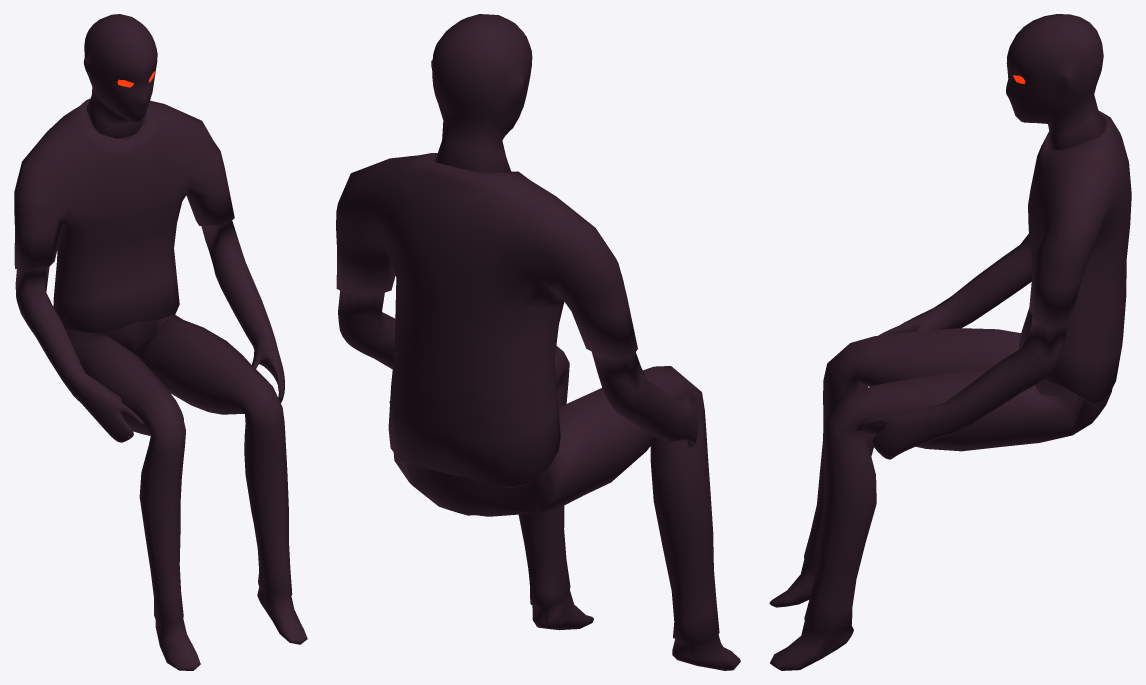
Rendered from NPCShadow.fbx.
The picture shows the model from 3 angles, left to right: view 1: azimuth 30°, elevation 25°; view 2: azimuth 150°, elevation 25°; view 3: azimuth 270°, elevation 25°; orthographic projection. The views are drawn at different scales.
Visible parts, largest first — view 1: NPCmass14.003, NPCmass14.004, NPCmass14.002; view 2: NPCmass14.003, NPCmass14.004, NPCmass14.002; view 3: NPCmass14.003, NPCmass14.004, NPCmass14.002.
Part boxes in pixels (bbox=[...]): NPCmass14.003: bbox=[14, 99, 284, 442]; NPCmass14.004: bbox=[66, 314, 307, 670]; NPCmass14.002: bbox=[83, 14, 157, 138]; NPCmass14.003: bbox=[336, 153, 698, 487]; NPCmass14.004: bbox=[389, 345, 740, 670]; NPCmass14.002: bbox=[431, 14, 532, 173]; NPCmass14.003: bbox=[861, 111, 1131, 459]; NPCmass14.004: bbox=[769, 328, 1112, 670]; NPCmass14.002: bbox=[1006, 14, 1104, 150].
Size of the model in its own units: 54.67 by 130 by 69.17.
